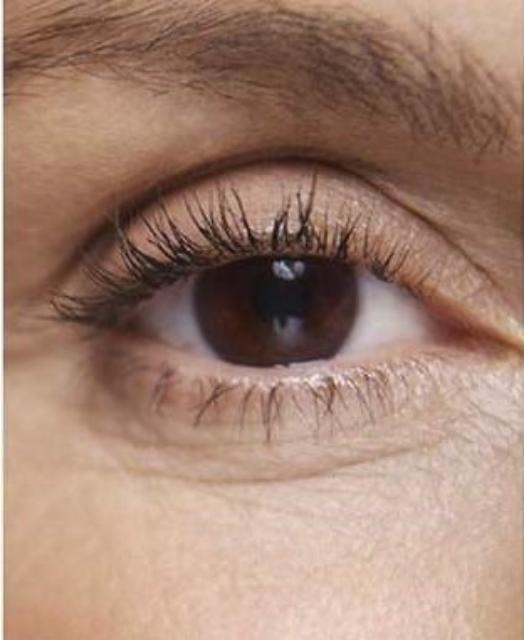eye: (197, 250, 365, 372)
